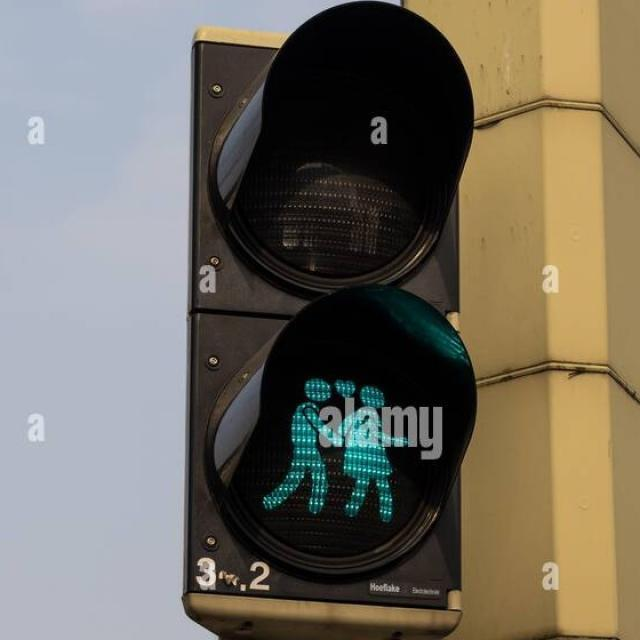geen-crossing: (258, 346, 407, 540)
